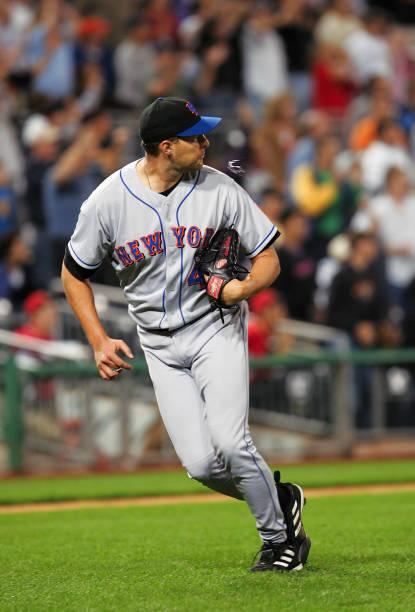Spitting: (109, 59, 276, 240)
